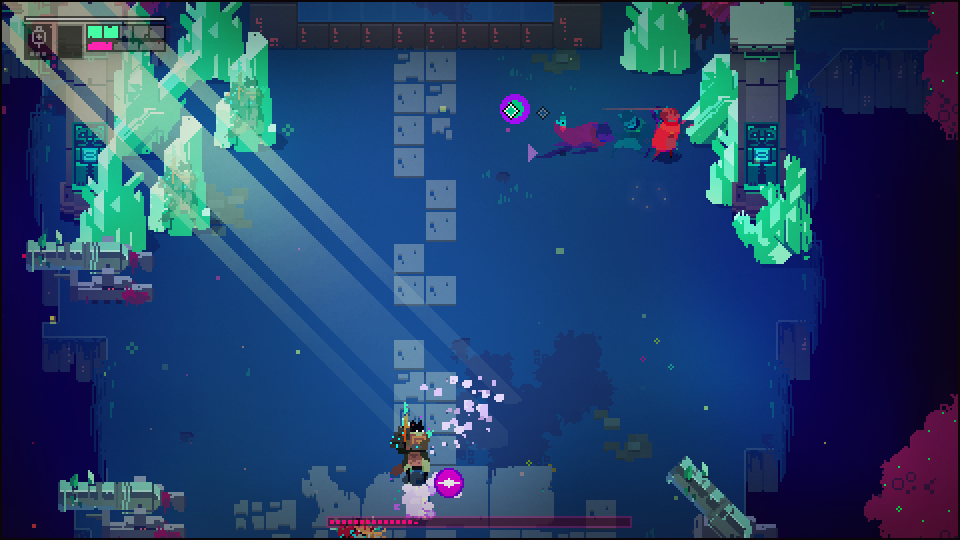hanged_shot: (499, 92, 534, 127), (433, 468, 466, 501)
player: (650, 106, 685, 163)
